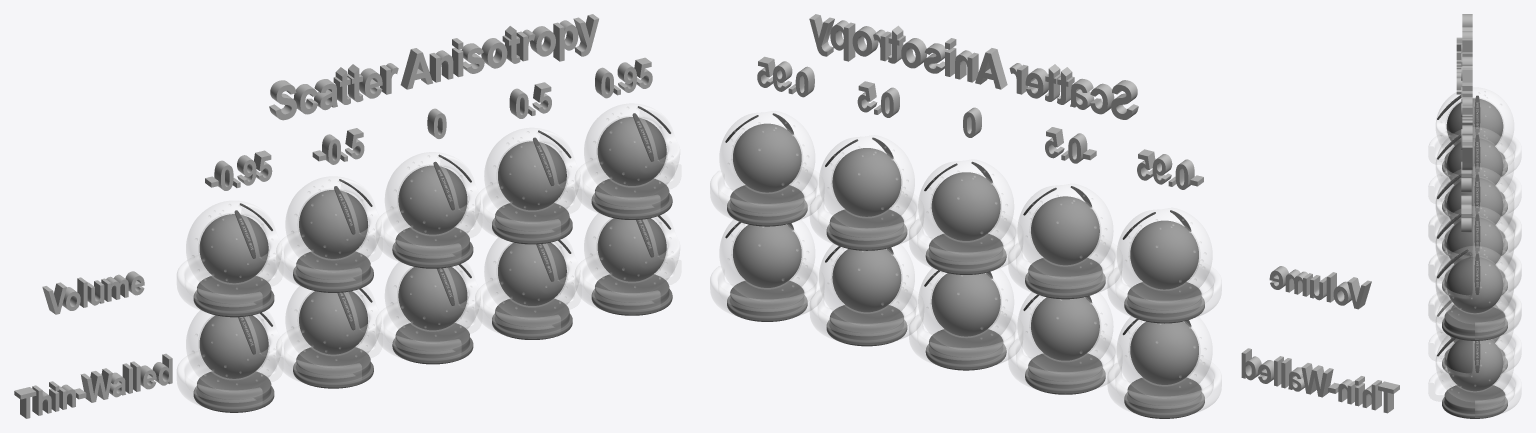
Rendered from ScatterAnisotropy.glb.
The picture shows the model from 3 angles, left to right: view 1: azimuth 30°, elevation 25°; view 2: azimuth 150°, elevation 25°; view 3: azimuth 270°, elevation 25°; orthographic projection. The views are drawn at different scales.
Parts seen in each view (by area): view 1: material_surface (×10), core (×10), base (×10), Scatter Anisotropy, UI, Thin-Walled, Volume; view 2: material_surface (×10), core (×10), base (×10), Scatter Anisotropy, UI, Thin-Walled, Volume; view 3: material_surface (×10), core (×6), base (×7), sss_bars (×6), Scatter Anisotropy, UI, Volume.
Part boxes in pixels (x1,y1,x2,y2): material_surface (×10): (177, 103, 681, 411); core (×10): (199, 117, 666, 378); base (×10): (193, 178, 672, 412); Scatter Anisotropy: (269, 14, 598, 120); UI: (205, 57, 652, 190); Thin-Walled: (14, 353, 172, 418); Volume: (42, 271, 144, 314); material_surface (×10): (710, 111, 1221, 417); core (×10): (733, 123, 1198, 384); base (×10): (727, 185, 1204, 418); Scatter Anisotropy: (809, 14, 1138, 119); UI: (757, 56, 1203, 189); Thin-Walled: (1241, 348, 1399, 413); Volume: (1269, 266, 1371, 309); material_surface (×10): (1428, 87, 1521, 417); core (×6): (1446, 98, 1503, 391); base (×7): (1442, 151, 1507, 418); sss_bars (×6): (1437, 95, 1480, 372); Scatter Anisotropy: (1462, 14, 1472, 170); UI: (1461, 44, 1471, 232); Volume: (1456, 37, 1462, 94).
Size of the model in its own units: 0.6034 by 0.2623 by 0.0892.
Materials: 13 (1 with a texture image).
